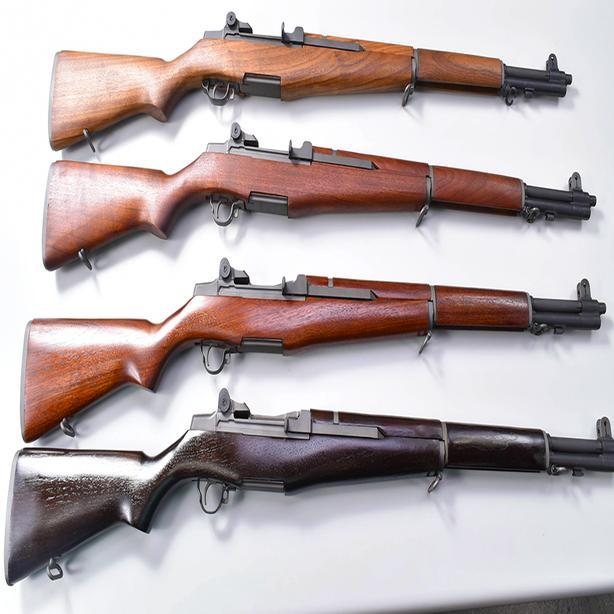Firearm: (0, 384, 614, 581), (18, 259, 614, 450), (37, 5, 595, 152), (42, 149, 606, 276)
